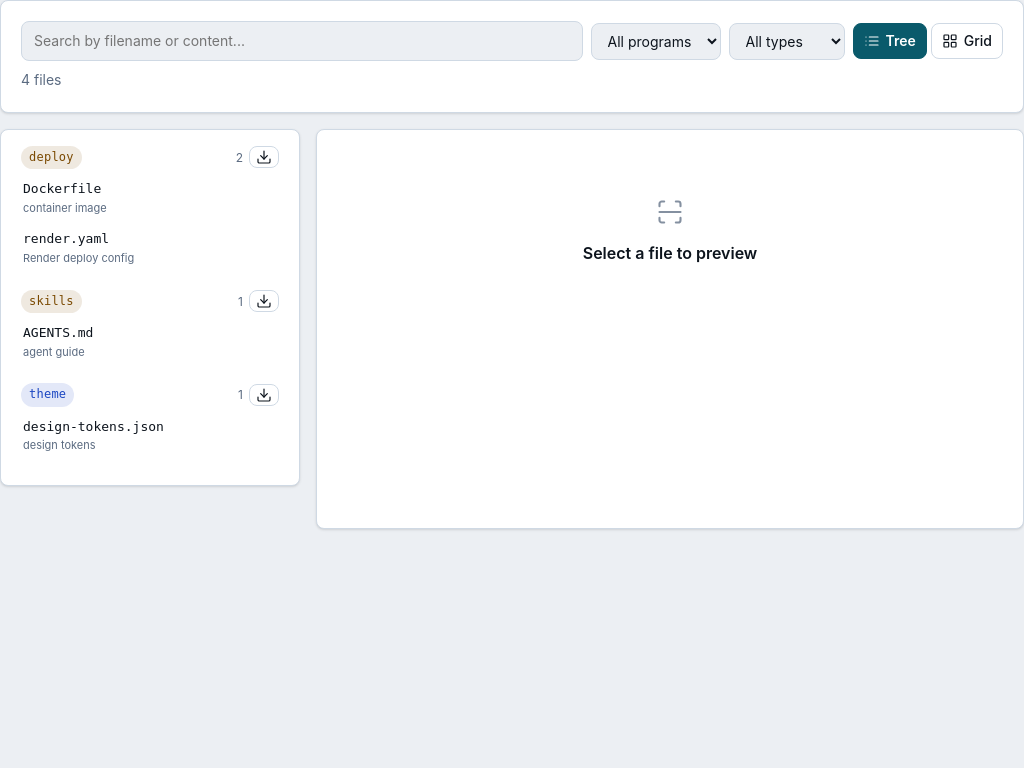
it: ArtifactExplorer — search › also matches by CONTENT substring, across programs — the WO-P6 acceptance scenario ('docker' finds files by name AND content)
The image size is (1024, 768).
Step 1. Type "docker" into the field named "Search artifacts" → (302, 41), box x1=21 y1=21 x2=583 y2=61
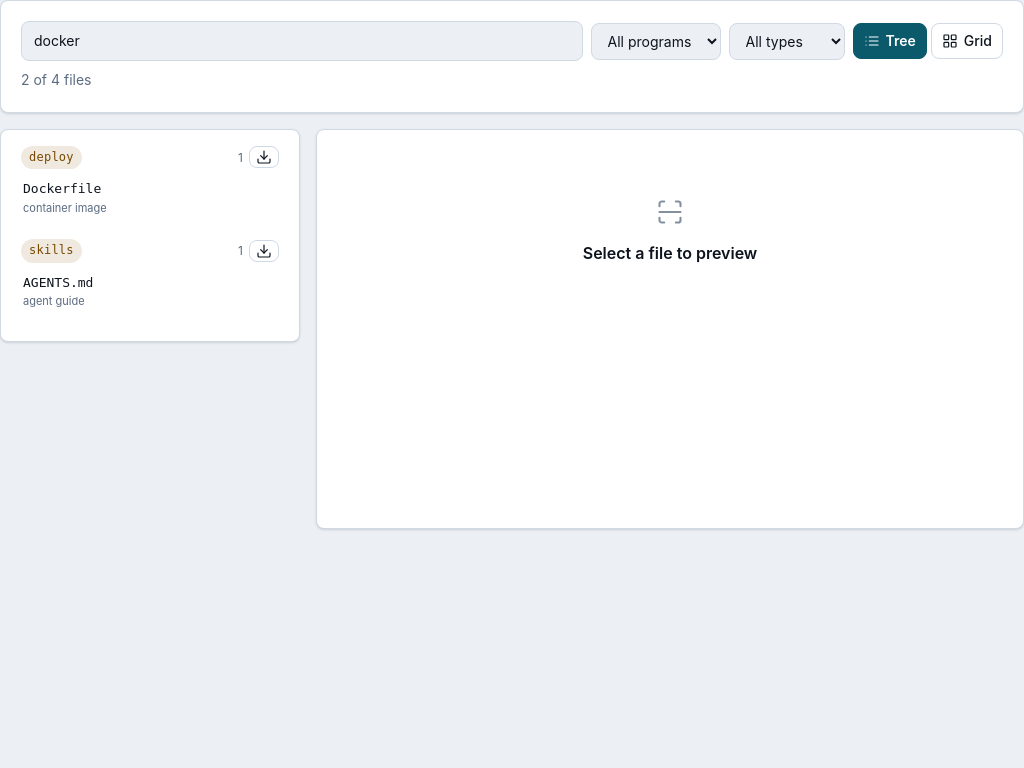
Now the text "2 of 4 files" is shown, box x1=21 y1=71 x2=92 y2=88
Now the button titled "render.yaml" is gone
Now the button titled "design-tokens.json" is gone
